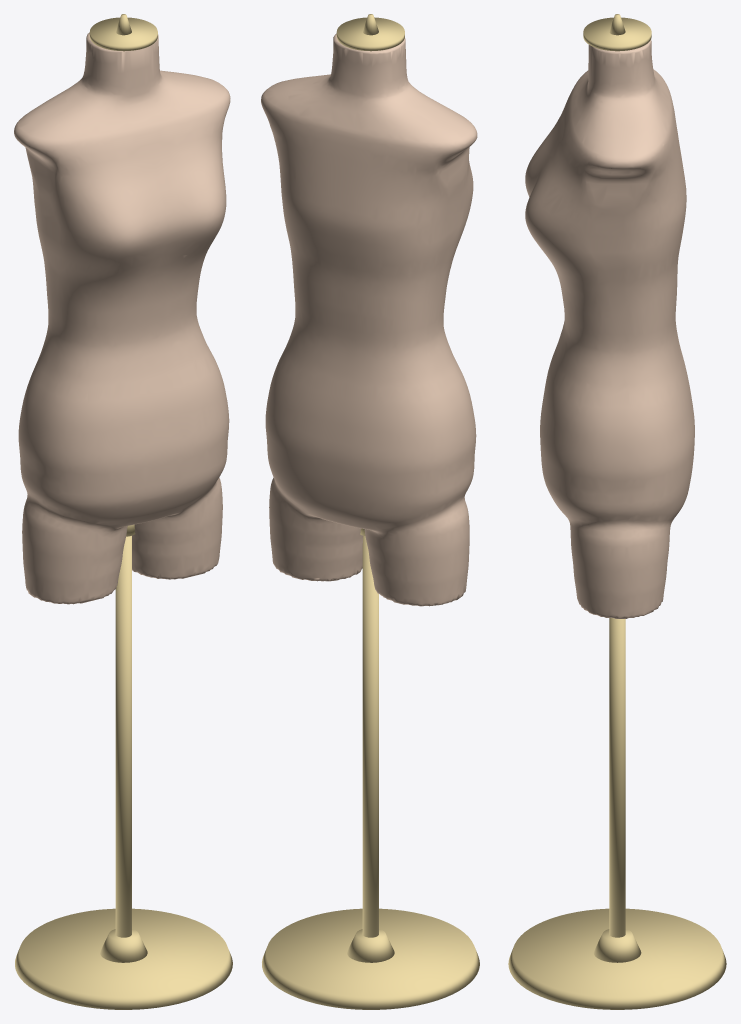
Rendered from mannequin.glb.
3 renders of one model, left to right at view 1: azimuth 30°, elevation 25°; view 2: azimuth 150°, elevation 25°; view 3: azimuth 270°, elevation 25°, orthographic.
Parts seen in each view (by area): view 1: AZHO_Mannequin_Body, AZHO_Mannequin_Stand; view 2: AZHO_Mannequin_Body, AZHO_Mannequin_Stand; view 3: AZHO_Mannequin_Body, AZHO_Mannequin_Stand.
Boxes of the visible parts, box(x1,y1,x2,y2) form: AZHO_Mannequin_Body: box(14, 32, 230, 604); AZHO_Mannequin_Stand: box(15, 14, 232, 1009); AZHO_Mannequin_Body: box(261, 33, 477, 606); AZHO_Mannequin_Stand: box(262, 14, 479, 1009); AZHO_Mannequin_Body: box(525, 39, 694, 618); AZHO_Mannequin_Stand: box(508, 14, 726, 1009).
Size of the model in its own units: 0.3466 by 1.53 by 0.3201.
